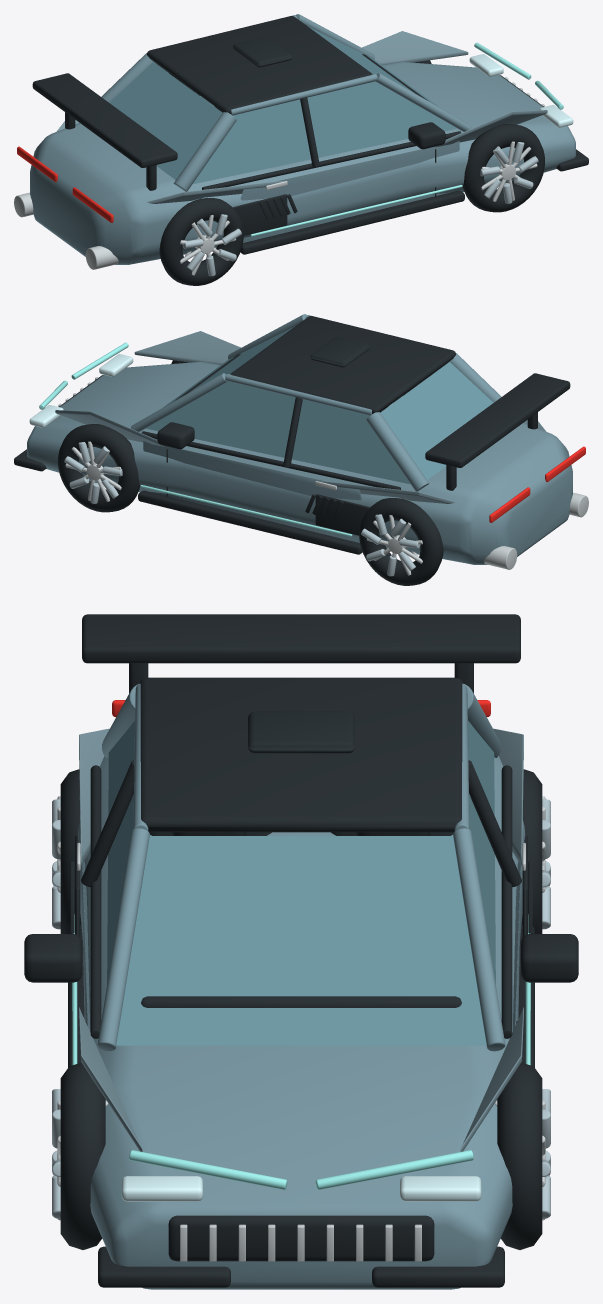
The model's file is FutureSportsCar.fbx.
The picture shows the model from 3 angles, top to bottom: view 1: azimuth 30°, elevation 25°; view 2: azimuth 150°, elevation 25°; view 3: azimuth 270°, elevation 25°; orthographic projection. The views are drawn at different scales.
Parts seen in each view (by area): view 1: BodyPaint, TrimRubber, Glazing, BodyPaintFuture, TrimRubber.002, TrimRubber.001, TrimRubberFuture, HeadlampFuture, BrushedAlloy, BrushedAlloyFuture, BrushedAlloyFuture.001, Headlamp (+3 smaller); view 2: BodyPaint, TrimRubber, Glazing, BodyPaintFuture, TrimRubber.004, TrimRubber.003, TrimRubberFuture, HeadlampFuture, BrushedAlloy, BrushedAlloyFuture.002, BrushedAlloyFuture.003, Headlamp (+3 smaller); view 3: TrimRubber, BodyPaint, Glazing, BodyPaintFuture, TrimRubber.001, TrimRubber.003, TrimRubberFuture, HeadlampFuture, Headlamp, BrushedAlloy, TrimRubber.002, TrimRubber.004 (+4 smaller).
Boxes of the visible parts, box(x1,y1,x2,y2) form: BodyPaint: box(30, 14, 575, 264); TrimRubber: box(32, 16, 588, 254); Glazing: box(109, 26, 457, 184); BodyPaintFuture: box(56, 31, 547, 203); TrimRubber.002: box(159, 198, 243, 285); TrimRubber.001: box(463, 124, 544, 212); TrimRubberFuture: box(233, 37, 297, 219); HeadlampFuture: box(250, 42, 563, 236); BrushedAlloy: box(14, 77, 544, 269); BrushedAlloyFuture: box(182, 214, 241, 276); BrushedAlloyFuture.001: box(480, 142, 538, 203); Headlamp: box(469, 54, 573, 127); BodyPaint: box(27, 314, 572, 564); TrimRubber: box(14, 316, 570, 554); Glazing: box(145, 326, 493, 484); BodyPaintFuture: box(55, 331, 546, 503); TrimRubber.004: box(359, 498, 443, 585); TrimRubber.003: box(58, 424, 139, 512); TrimRubberFuture: box(305, 337, 369, 519); HeadlampFuture: box(39, 342, 352, 536); BrushedAlloy: box(58, 377, 588, 569); BrushedAlloyFuture.002: box(361, 514, 420, 576); BrushedAlloyFuture.003: box(64, 442, 122, 503); Headlamp: box(29, 354, 133, 427); TrimRubber: box(24, 614, 578, 1287); BodyPaint: box(77, 683, 525, 1289); Glazing: box(107, 721, 495, 1045); BodyPaintFuture: box(79, 728, 523, 1151); TrimRubber.001: box(60, 1062, 105, 1249); TrimRubber.003: box(497, 1062, 542, 1249); TrimRubberFuture: box(70, 711, 532, 933); HeadlampFuture: box(72, 914, 530, 1189); Headlamp: box(121, 1176, 481, 1201); BrushedAlloy: box(77, 842, 525, 1261); TrimRubber.002: box(60, 769, 81, 933); TrimRubber.004: box(521, 769, 542, 933).
Size of the model in its own units: 522 by 172 by 259.
